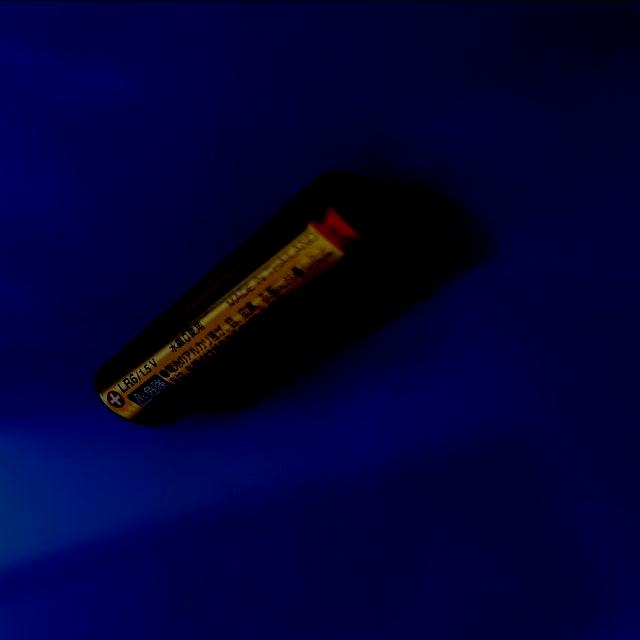AA: (95, 170, 433, 427)
